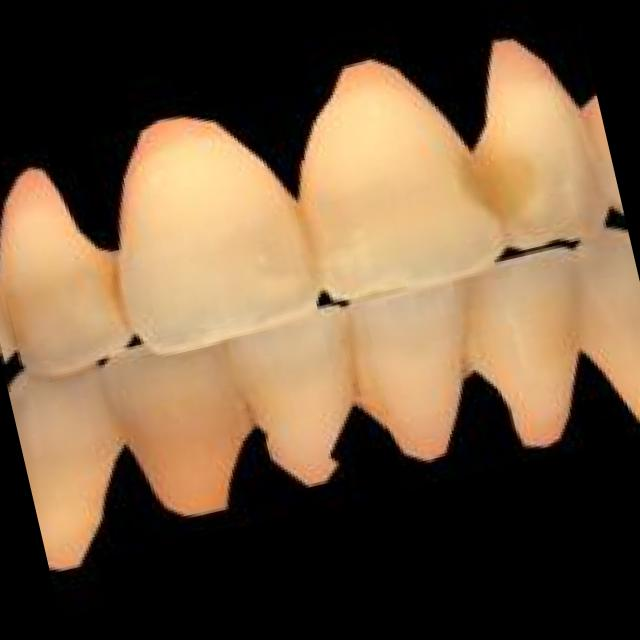karies: (0, 6, 640, 575), (2, 224, 640, 573), (264, 34, 510, 312), (80, 90, 326, 364), (442, 21, 611, 263), (0, 150, 138, 389), (568, 68, 627, 245), (0, 254, 28, 395)
